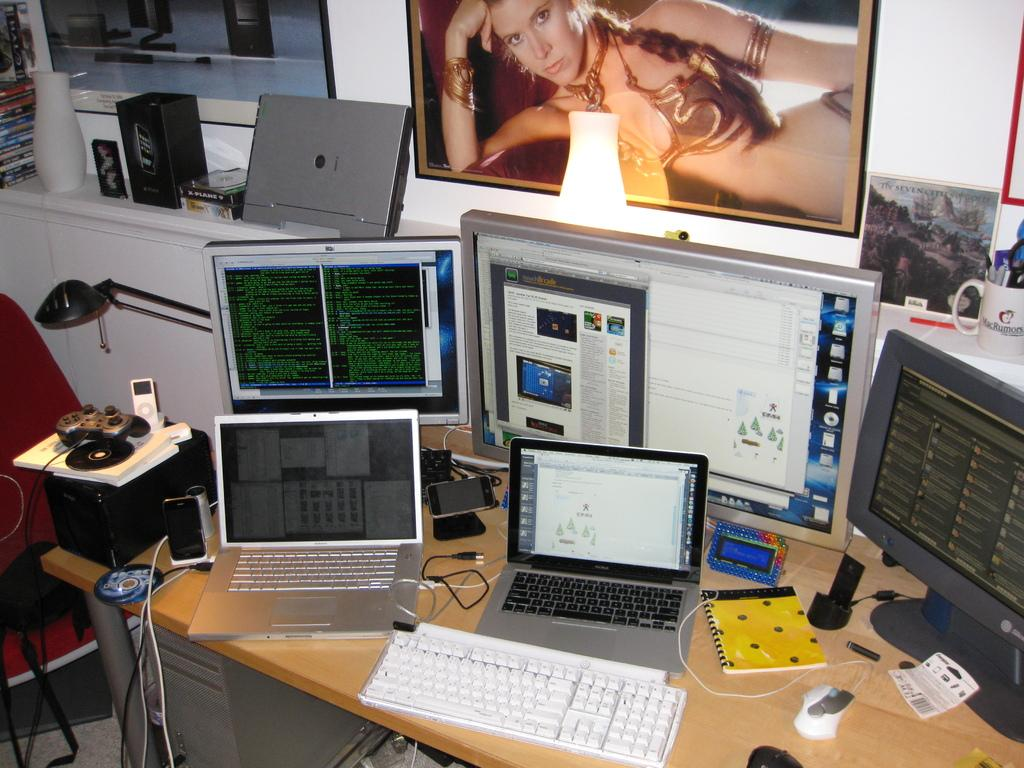Computer-keyboard: (362, 624, 685, 767), (499, 570, 684, 631), (223, 545, 397, 590)
Computer-monitor: (467, 212, 881, 558), (201, 236, 464, 495), (856, 334, 1020, 741)
